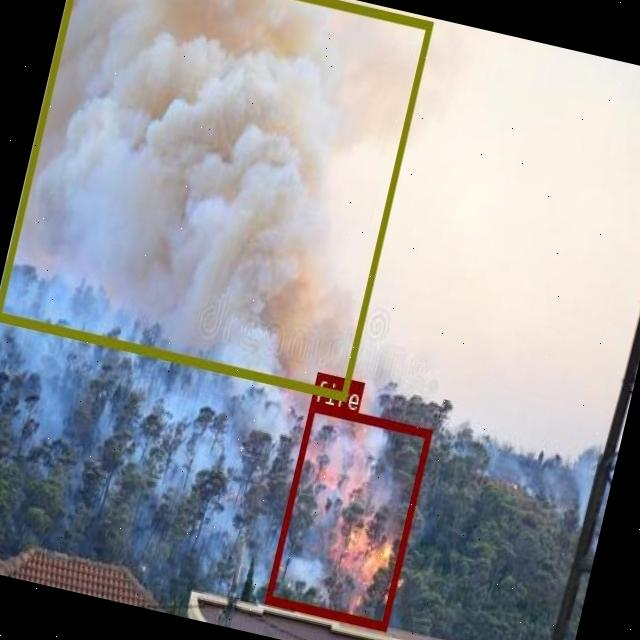fire: (264, 400, 432, 630)
smoke: (0, 0, 432, 398)
